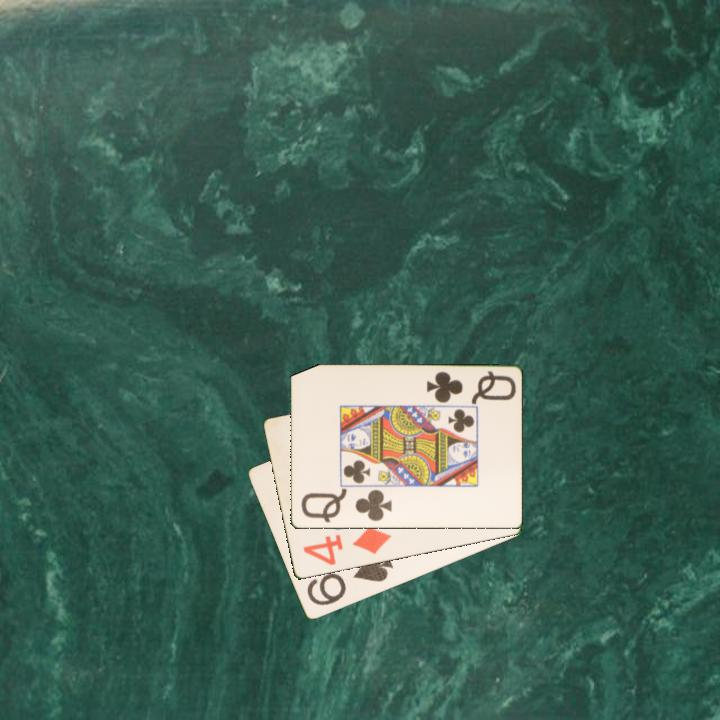4d: (299, 523, 394, 568)
6s: (303, 550, 396, 609)
Qc: (297, 487, 395, 526), (423, 368, 518, 406)
